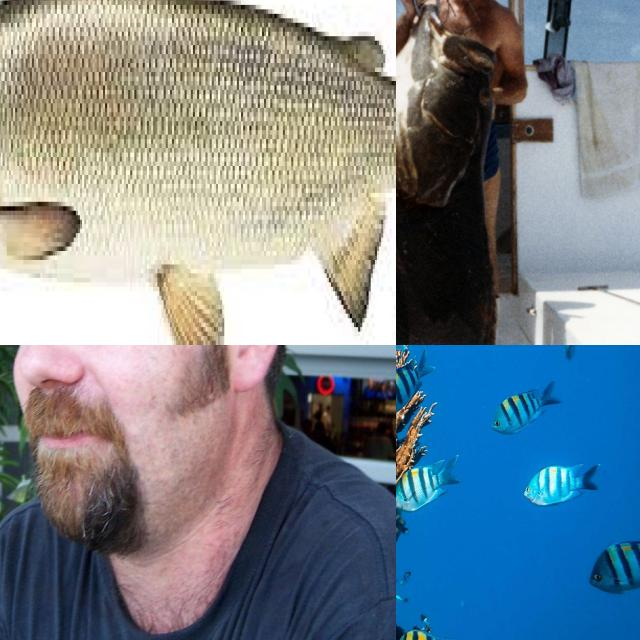fish: (0, 0, 396, 345), (396, 9, 500, 345), (396, 392, 450, 581)
